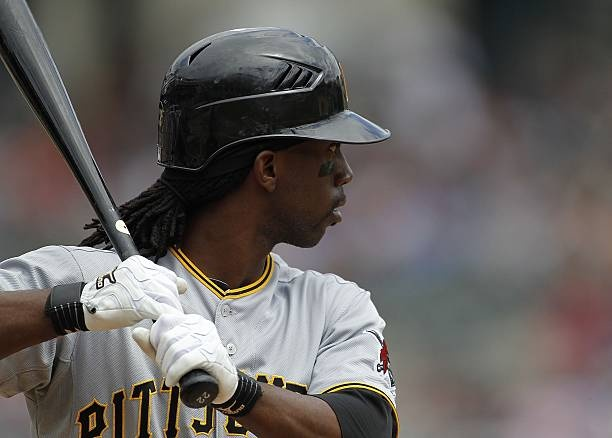bita: (1, 1, 211, 386)
